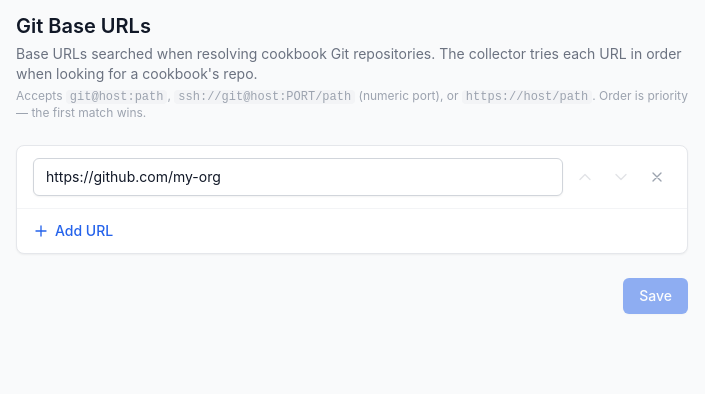
AdminGitURLsPage › add URL button adds an empty input
The width and height of the screenshot is (705, 394).
Expected: the heading "Git Base URLs" is shown, [16,14,151,38]
Click the button "Add URL". click: (73, 231)
box: [33,221,113,241]
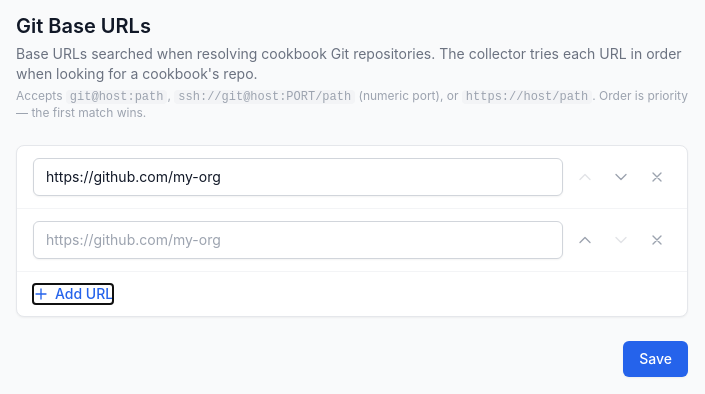
Now the number of fields is 2, box [33,158,563,196]; [33,221,563,259]
